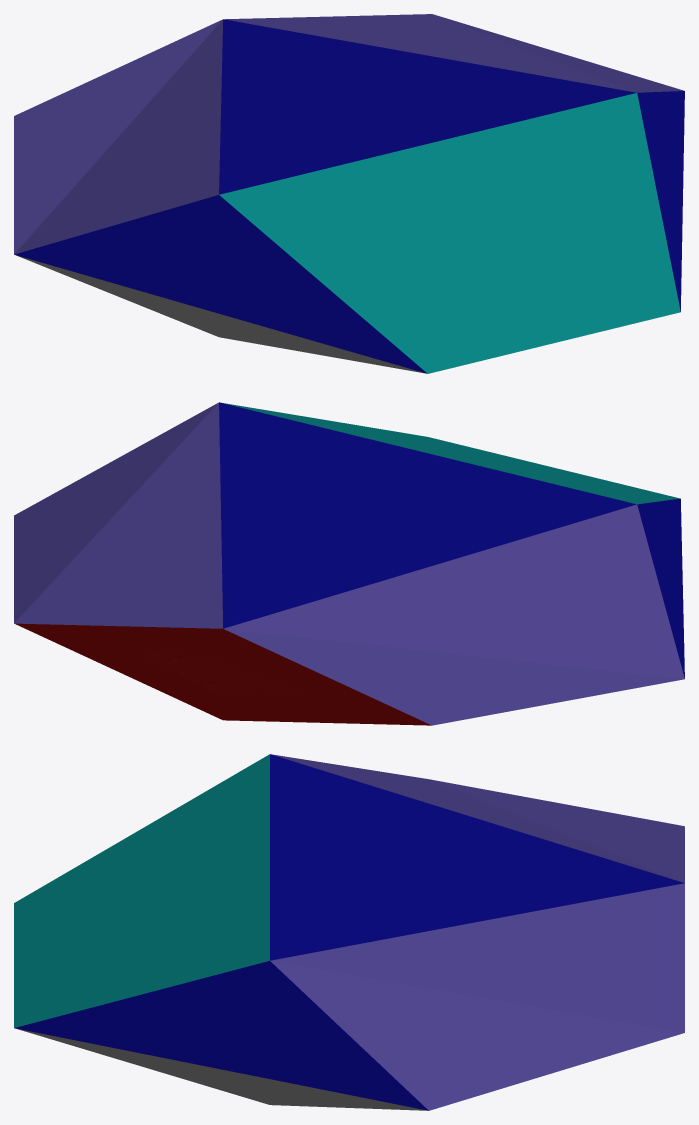
Rendered from aspmk2.obj.
The picture shows the model from 3 angles, top to bottom: view 1: azimuth 30°, elevation 25°; view 2: azimuth 150°, elevation 25°; view 3: azimuth 270°, elevation 25°; orthographic projection.
Size of the model in its own units: 138 by 32 by 118.
